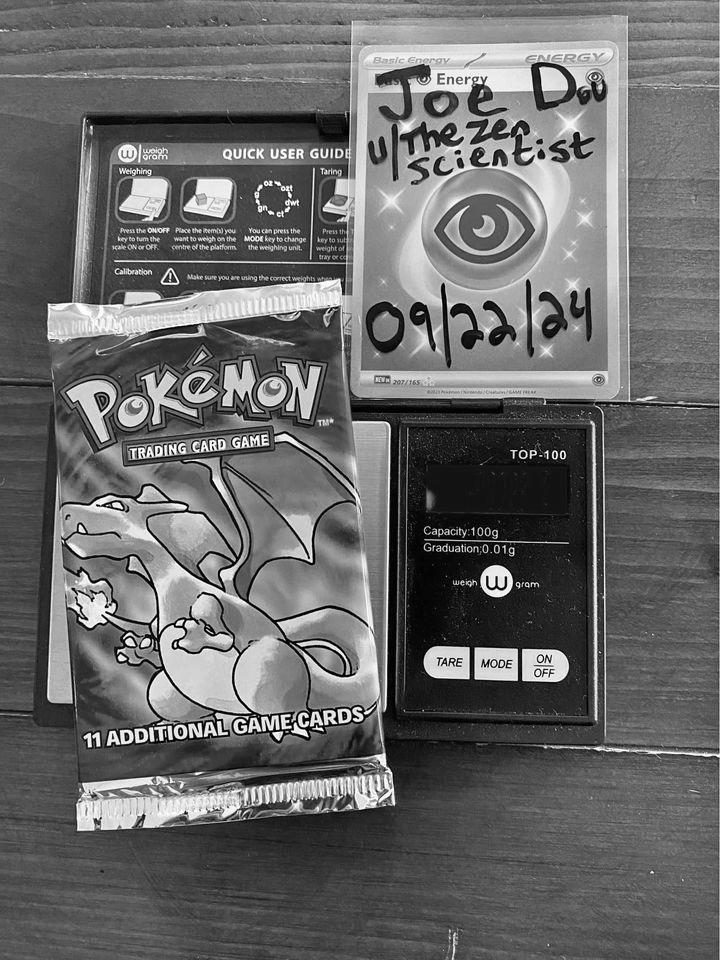card: (348, 37, 623, 400)
